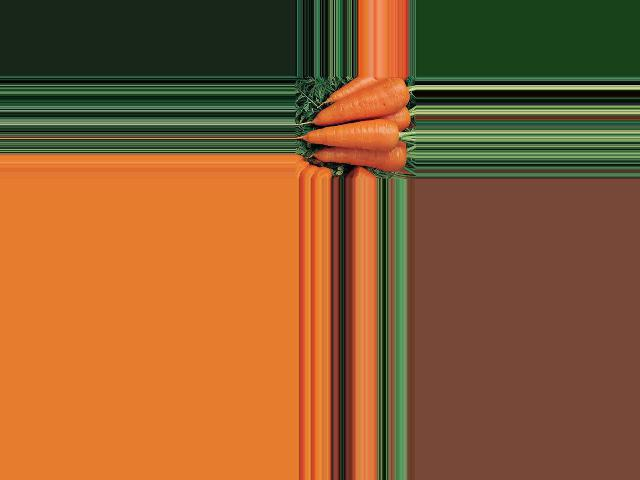carrot: (309, 81, 408, 127)
